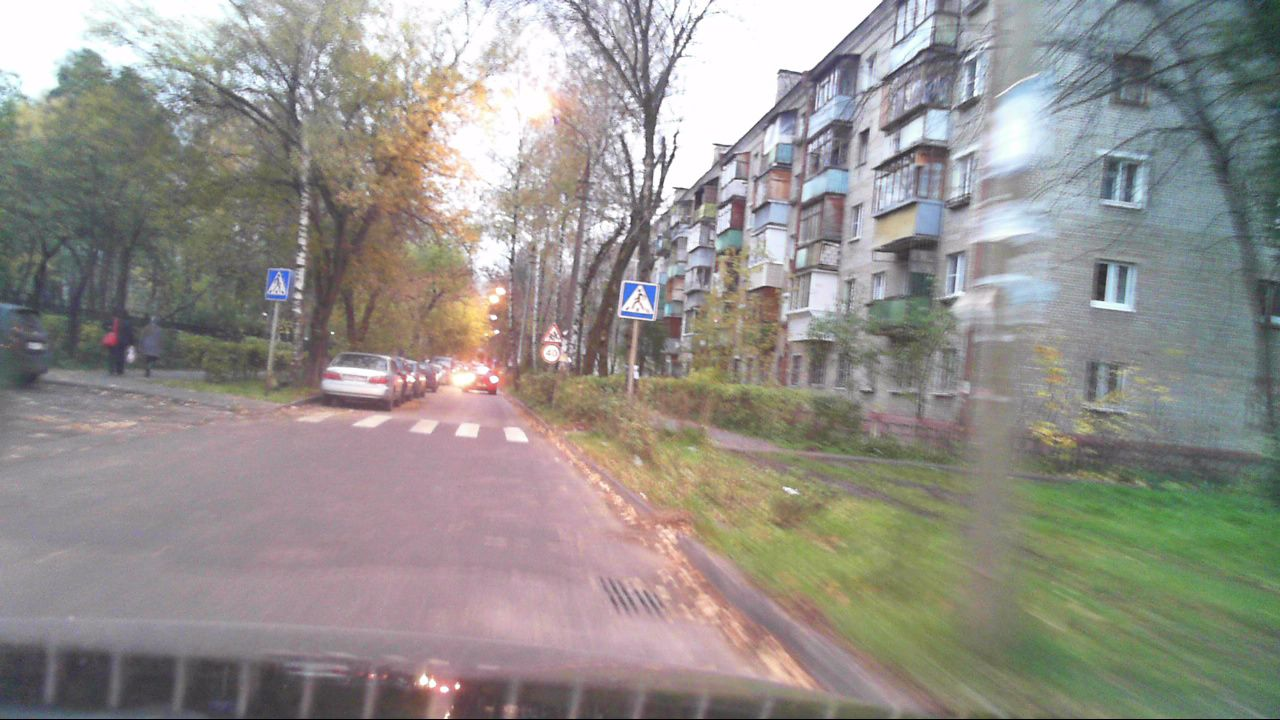speed_warning_40: (541, 345, 560, 363)
